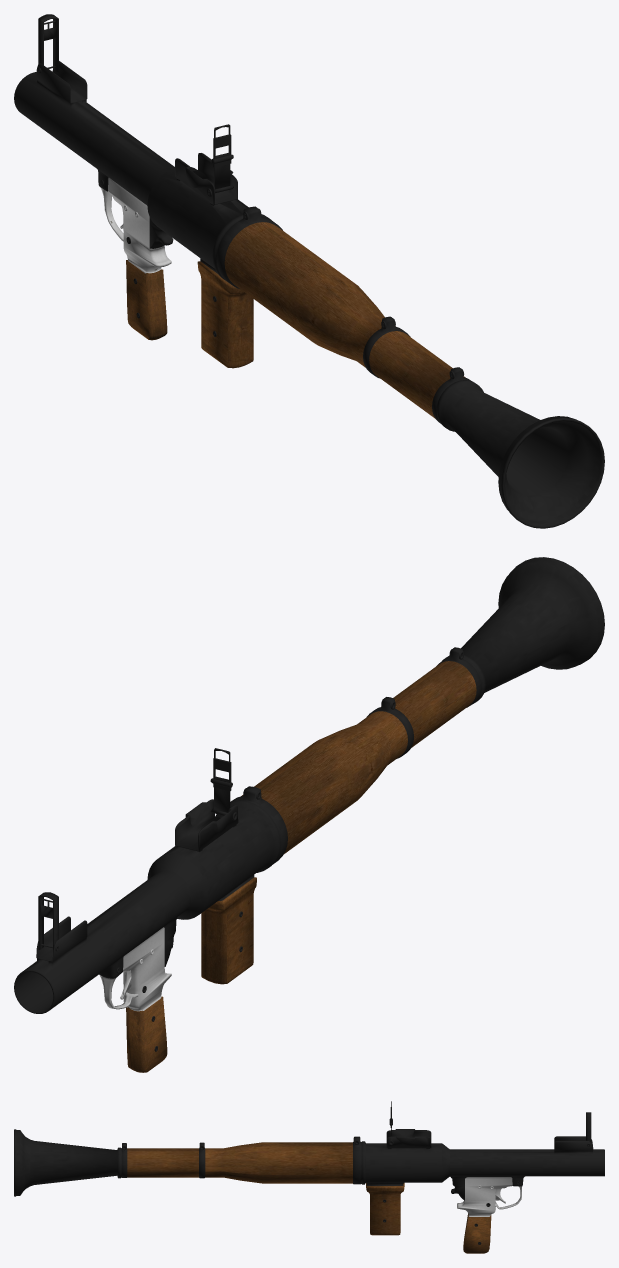
Rendered from rpg.glb.
The picture shows the model from 3 angles, top to bottom: view 1: azimuth 30°, elevation 25°; view 2: azimuth 150°, elevation 25°; view 3: azimuth 270°, elevation 25°; orthographic projection. The views are drawn at different scales.
Parts seen in each view (by area): view 1: RPG 7; view 2: RPG 7; view 3: RPG 7.
Boxes of the visible parts, <box> form: RPG 7: <box>14,14,604,528</box>; RPG 7: <box>14,557,604,1072</box>; RPG 7: <box>14,1101,604,1253</box>.
Bounding box in the file's own units: 0.108 × 0.2645 × 0.9503.
Materials: 1 (1 with a texture image).
